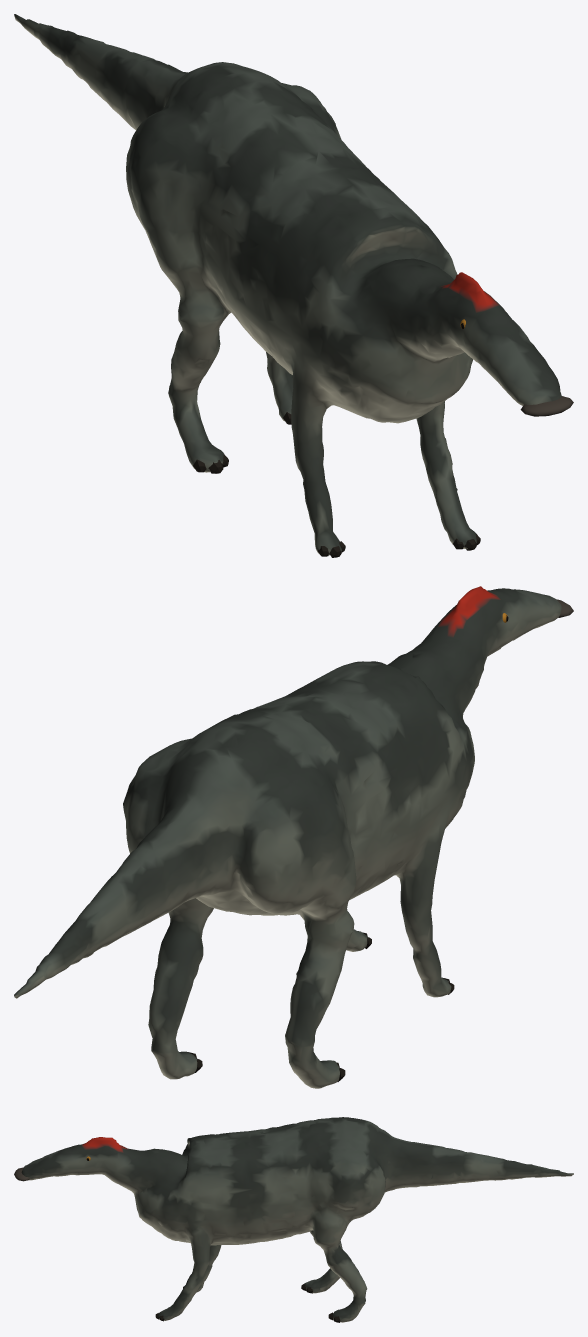
File: Edmontosaurus.fbx
The picture shows the model from 3 angles, top to bottom: view 1: azimuth 30°, elevation 25°; view 2: azimuth 150°, elevation 25°; view 3: azimuth 270°, elevation 25°; orthographic projection. The views are drawn at different scales.
Parts seen in each view (by area): view 1: Edmontosaurus; view 2: Edmontosaurus; view 3: Edmontosaurus.
Boxes of the visible parts, bbox=[...] form: Edmontosaurus: bbox=[14, 14, 573, 557]; Edmontosaurus: bbox=[14, 586, 573, 1088]; Edmontosaurus: bbox=[14, 1117, 573, 1322].
Bounding box in the file's own units: 0.4414 × 0.7547 × 2.06.
